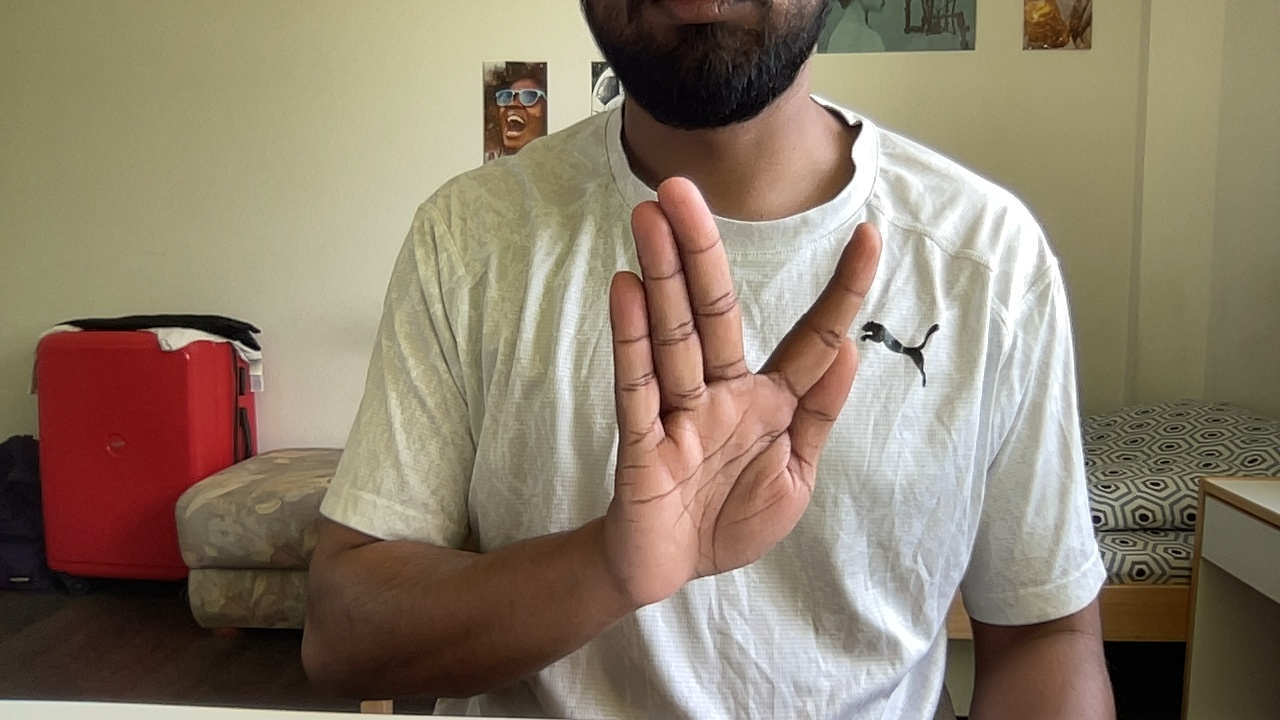LiveLong: (607, 174, 881, 609)
